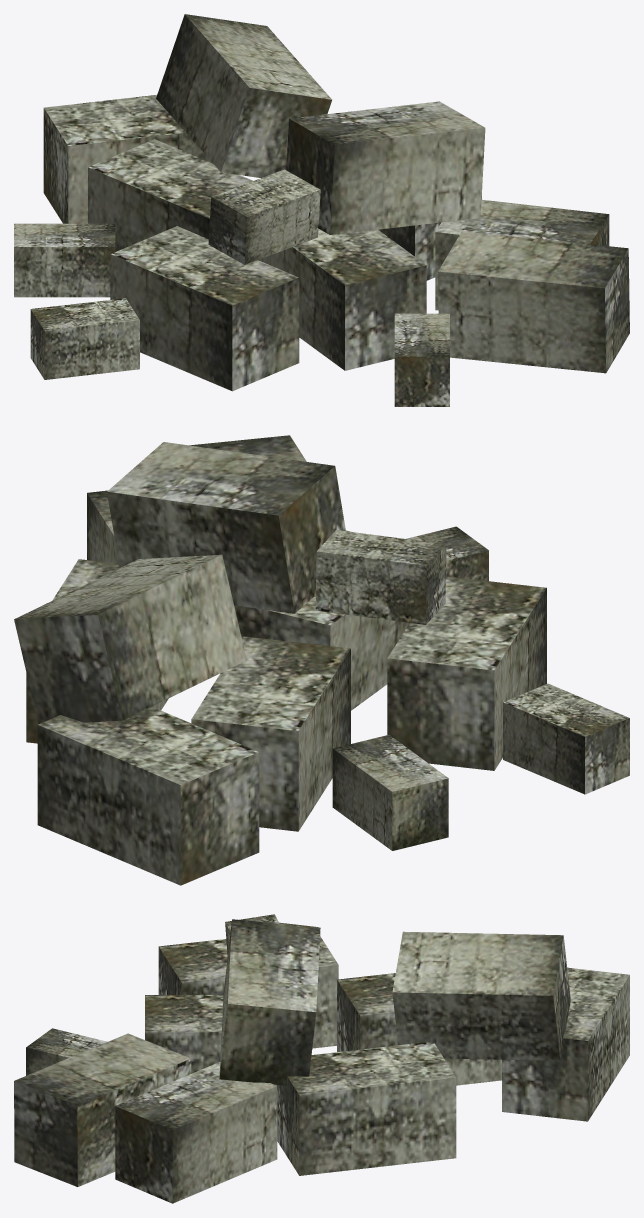
The model's file is rubblePile.fbx.
The picture shows the model from 3 angles, top to bottom: view 1: azimuth 30°, elevation 25°; view 2: azimuth 150°, elevation 25°; view 3: azimuth 270°, elevation 25°; orthographic projection. The views are drawn at different scales.
Visible parts, largest first — view 1: rubblePile; view 2: rubblePile; view 3: rubblePile.
Boxes of the visible parts, x1=… form: rubblePile: x1=14, y1=14, x2=629, y2=406; rubblePile: x1=14, y1=435, x2=629, y2=885; rubblePile: x1=14, y1=914, x2=629, y2=1203.
Bounding box in the file's own units: 2.03 × 0.6924 × 2.24.
Materials: 1 (1 with a texture image).
